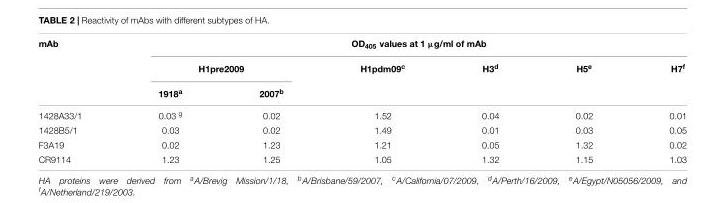table: (37, 37, 686, 163)
table column: (321, 37, 442, 163), (219, 37, 321, 163), (119, 37, 219, 163), (442, 37, 536, 163), (536, 37, 630, 163), (37, 37, 119, 163), (630, 37, 686, 163)
table column header: (37, 37, 686, 103)
table row: (37, 55, 686, 79), (37, 79, 686, 103), (37, 103, 686, 122), (37, 37, 686, 55), (37, 136, 686, 151), (37, 122, 686, 136), (37, 151, 686, 163)
table spanning cell: (119, 37, 686, 55), (321, 55, 442, 103), (37, 37, 119, 103), (119, 55, 321, 79), (442, 55, 536, 103), (536, 55, 630, 103), (630, 55, 686, 103)
